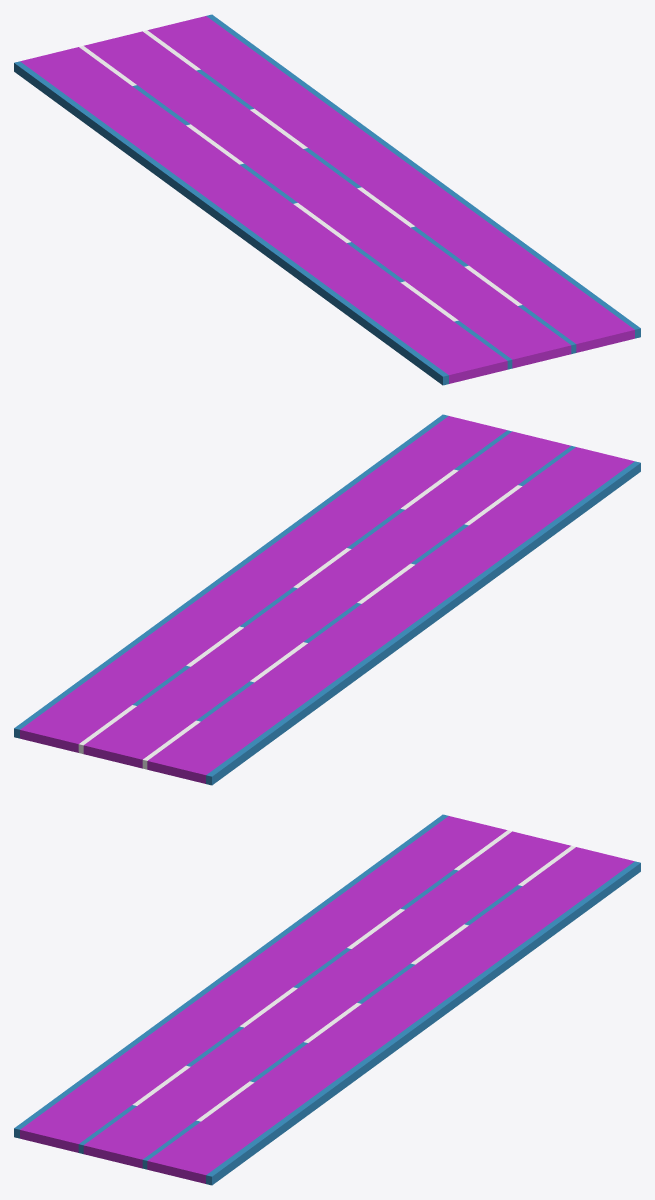
The model's file is droga.fbx.
3 renders of one model, top to bottom at view 1: azimuth 30°, elevation 25°; view 2: azimuth 150°, elevation 25°; view 3: azimuth 330°, elevation 25°, orthographic.
Visible parts, largest first — view 1: Cube; view 2: Cube; view 3: Cube.
Part boxes in pixels (x1,y1,x2,y2): Cube: (14, 14, 640, 385); Cube: (14, 414, 640, 785); Cube: (14, 814, 640, 1185).
Bounding box in the file's own units: 800 × 34.11 × 3000.
